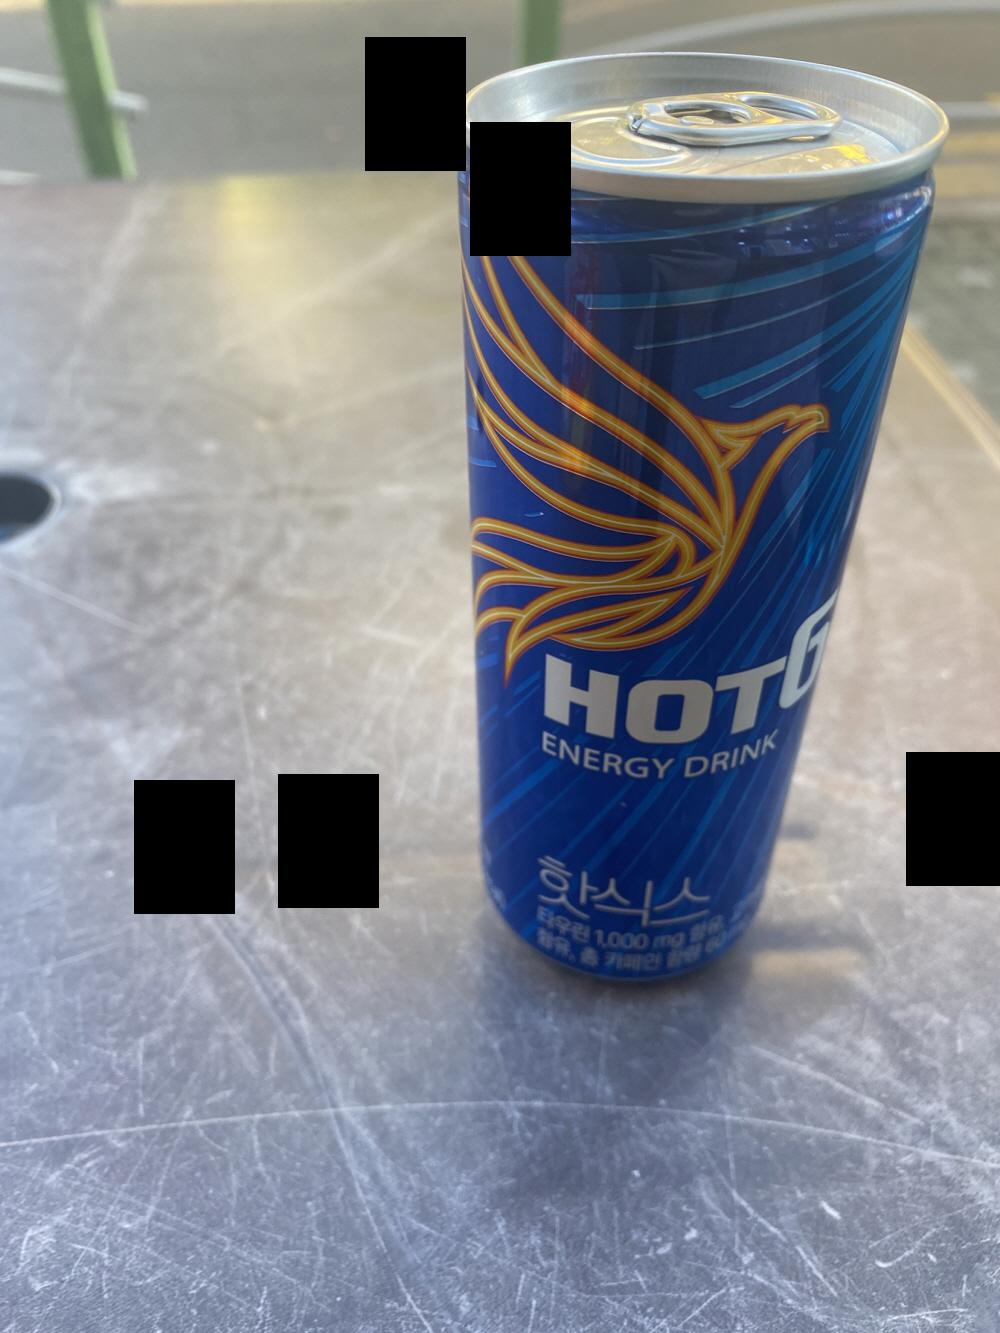hotsix_org: (458, 47, 930, 992)
